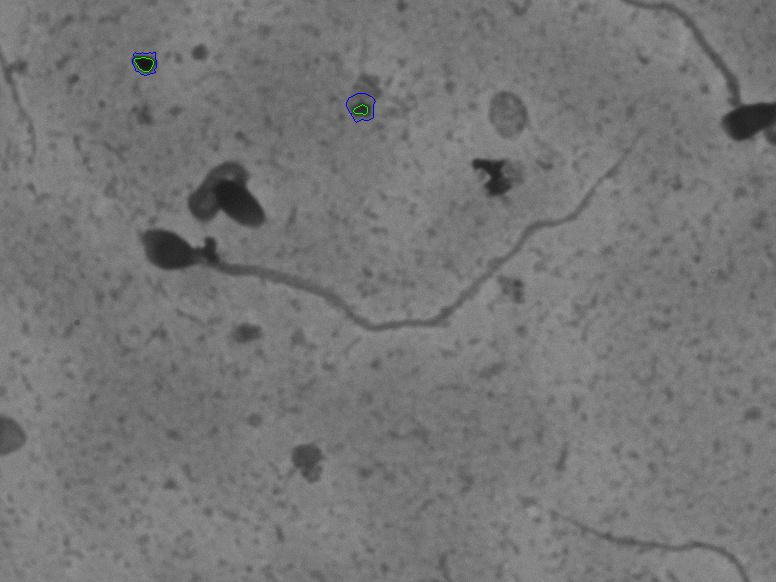Abnormal: (117, 115, 675, 392), (179, 127, 281, 227)
